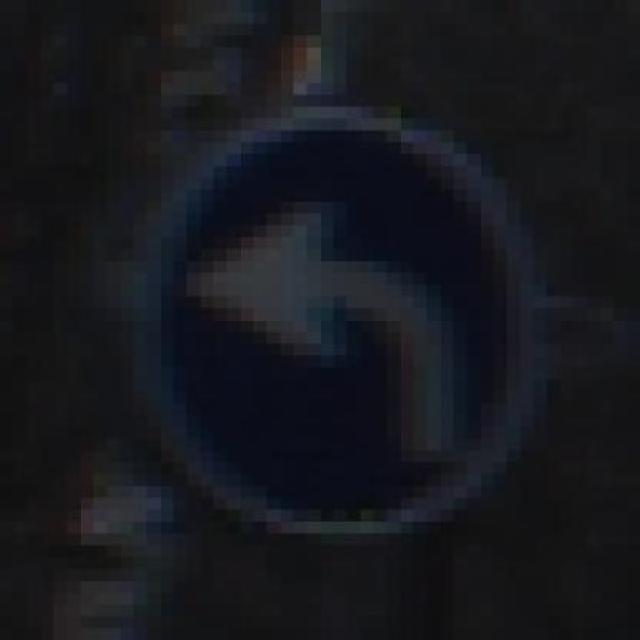Turn left ahead: (119, 95, 547, 558)
